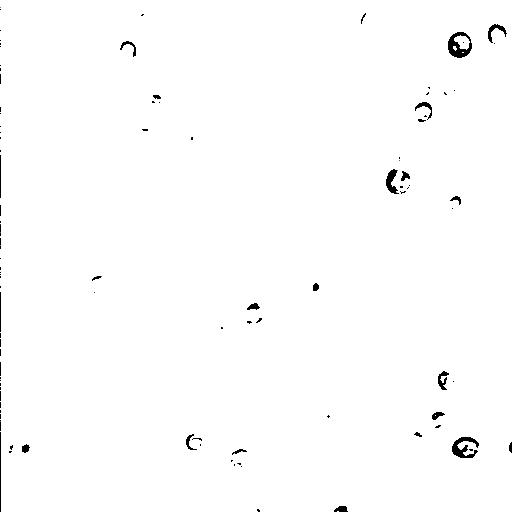micro-algae: (145, 1, 257, 61), (357, 69, 425, 133), (420, 457, 485, 511), (17, 244, 72, 299), (367, 5, 411, 51), (336, 63, 379, 107), (130, 0, 165, 38), (485, 415, 511, 465), (9, 428, 42, 467), (431, 69, 466, 103), (115, 335, 147, 367), (387, 141, 417, 172), (449, 434, 481, 461), (383, 168, 412, 197), (303, 271, 329, 301), (446, 31, 473, 58), (241, 300, 267, 327), (227, 446, 257, 469), (405, 426, 431, 451), (358, 8, 381, 36), (406, 77, 430, 103), (51, 291, 75, 317), (131, 112, 159, 134), (177, 124, 199, 147), (239, 497, 273, 511), (487, 22, 507, 45), (89, 274, 112, 293), (437, 371, 456, 391), (414, 103, 433, 122), (118, 41, 137, 59), (429, 410, 447, 429), (186, 433, 203, 451), (447, 195, 463, 211), (0, 79, 9, 105), (0, 182, 9, 204), (329, 503, 351, 511), (505, 436, 512, 455)
